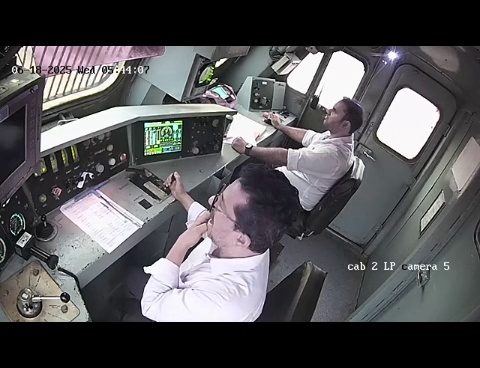brake_released: (1, 256, 105, 320)
horn_inactive: (29, 208, 70, 246)
